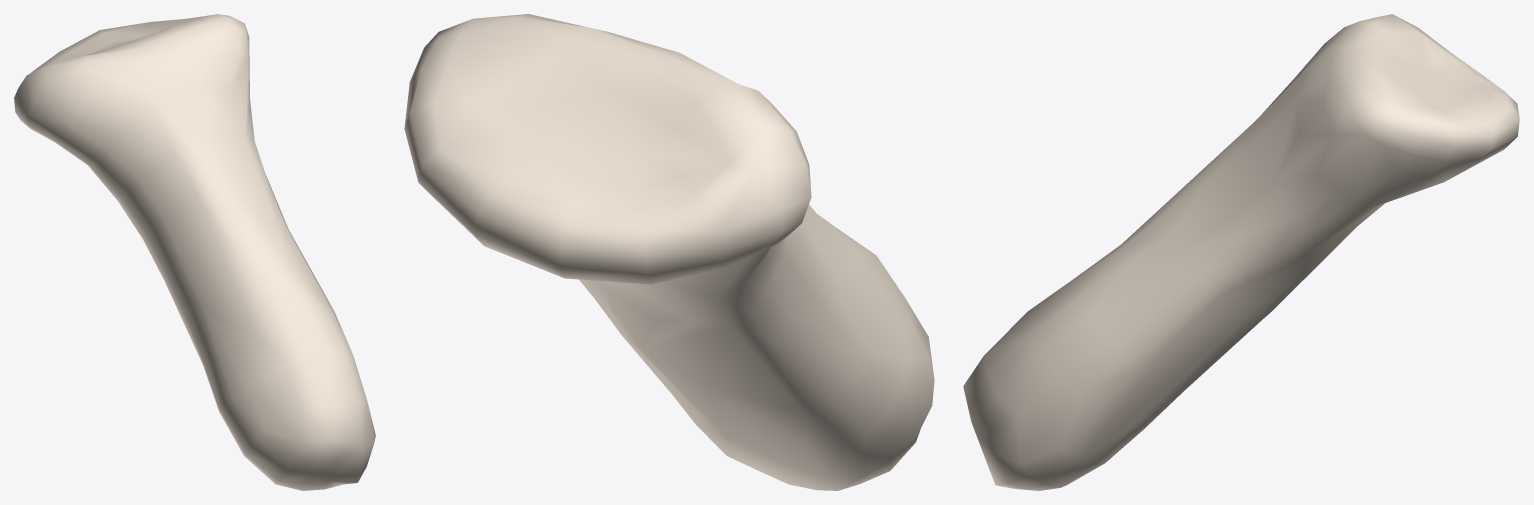
The model's file is right_digit_5_distal.glb.
The picture shows the model from 3 angles, left to right: view 1: azimuth 30°, elevation 25°; view 2: azimuth 150°, elevation 25°; view 3: azimuth 270°, elevation 25°; orthographic projection. The views are drawn at different scales.
Visible parts, largest first — view 1: Distal phalanx of 5th finger.r; view 2: Distal phalanx of 5th finger.r; view 3: Distal phalanx of 5th finger.r.
Part boxes in pixels (x1,y1,x2,y2): Distal phalanx of 5th finger.r: [14, 14, 375, 490]; Distal phalanx of 5th finger.r: [404, 14, 934, 490]; Distal phalanx of 5th finger.r: [963, 14, 1519, 490].
Size of the model in its own units: 0.00451 by 0.00709 by 0.00851.
